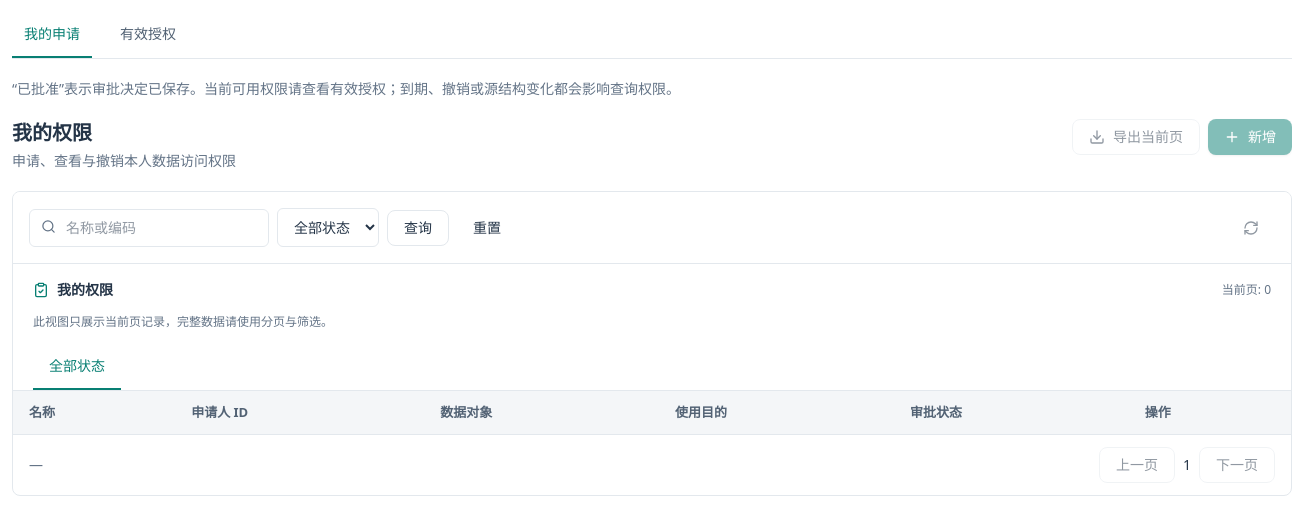
Test: Real data access interactions › shows actual effective grant fields separately from historical request state
The width and height of the screenshot is (1304, 513).
Click the tab "有效授权".
click(148, 35)  # box [108, 12, 188, 58]
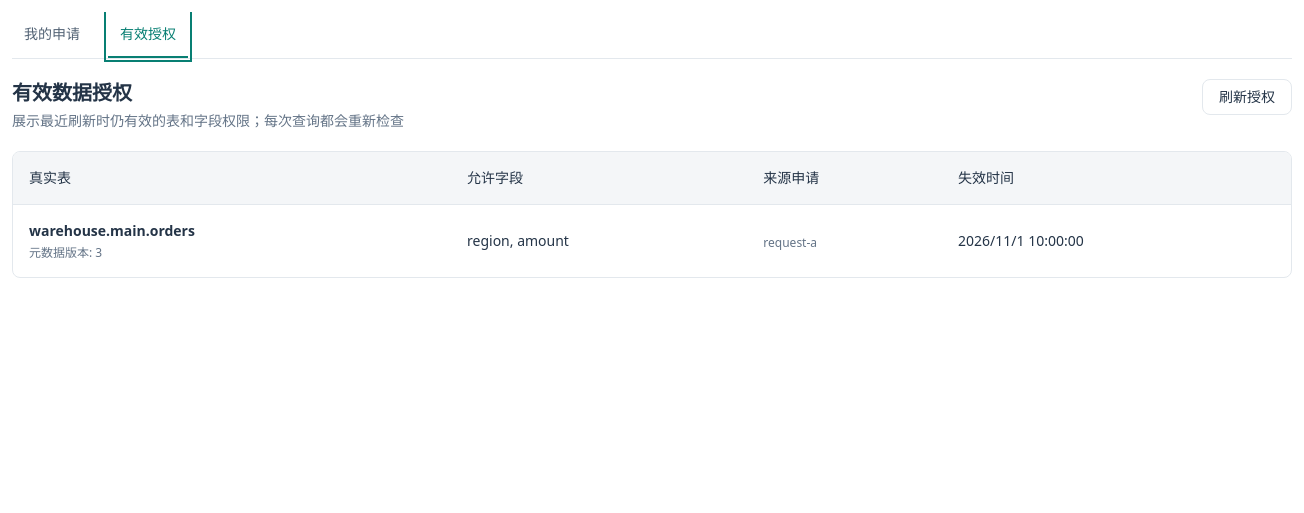
Expected: the text "warehouse.main.orders" is shown, [29, 221, 195, 240]
Expected: the text "region, amount" is shown, [451, 204, 747, 277]
